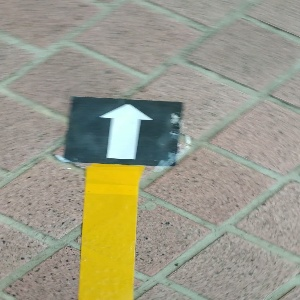straight: (65, 97, 181, 165)
